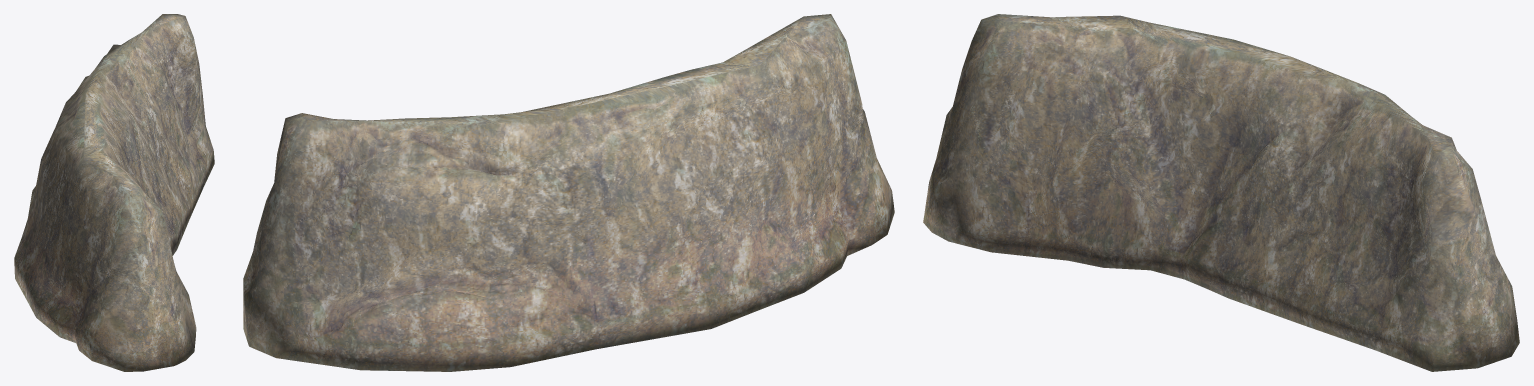
Rendered from land_cliff02e.fbx.
The picture shows the model from 3 angles, left to right: view 1: azimuth 30°, elevation 25°; view 2: azimuth 150°, elevation 25°; view 3: azimuth 270°, elevation 25°; orthographic projection. The views are drawn at different scales.
Parts seen in each view (by area): view 1: land_cliff02e; view 2: land_cliff02e; view 3: land_cliff02e.
Part boxes in pixels (bbox=[...]): land_cliff02e: bbox=[14, 14, 214, 371]; land_cliff02e: bbox=[243, 14, 894, 371]; land_cliff02e: bbox=[923, 14, 1519, 371].
Size of the model in its own units: 20.32 by 10.23 by 27.57.
